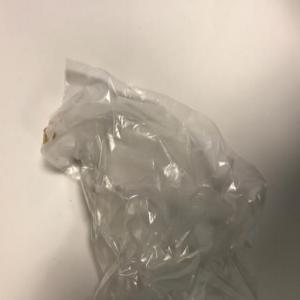Trash: (40, 57, 269, 300)
